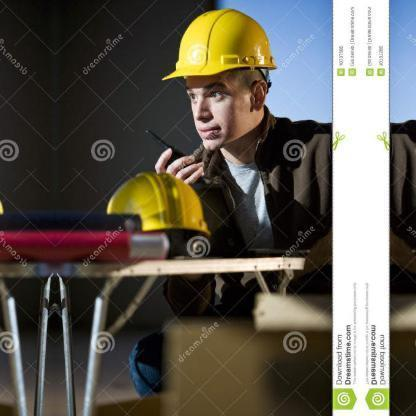helmet: (160, 4, 285, 81), (106, 169, 216, 249)
